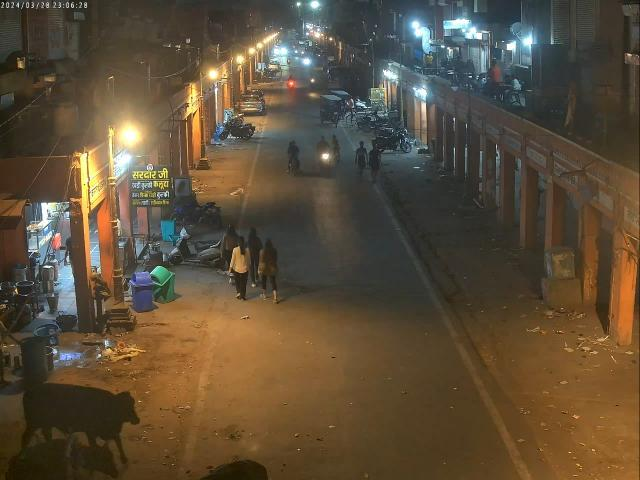auto: (320, 95, 341, 127)
bicycle: (347, 110, 374, 125), (364, 99, 388, 113)
bicycle-rider: (287, 140, 301, 176), (331, 135, 344, 166)
cattle: (12, 379, 138, 480)
motorbike: (169, 196, 222, 228), (373, 131, 412, 153), (218, 122, 252, 141)
motorbike-rider: (316, 134, 331, 172)
person: (257, 237, 279, 305), (228, 237, 249, 303), (245, 228, 262, 288), (222, 222, 238, 265), (368, 142, 382, 184), (354, 140, 368, 180)
scooty: (168, 227, 223, 270)
